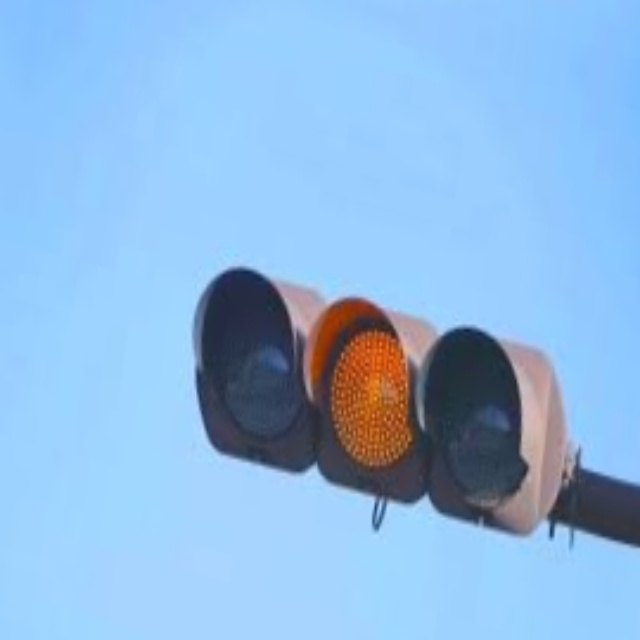yellow_light: (313, 318, 434, 486)
